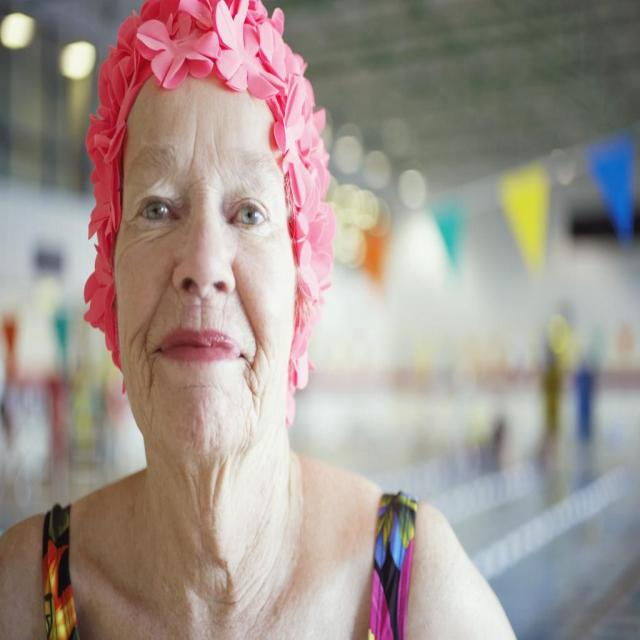Face: (109, 55, 318, 486)
